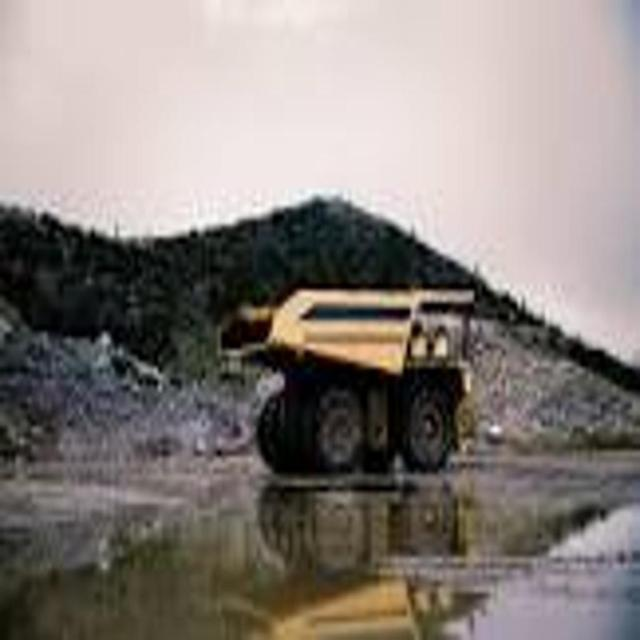dump_truck: (213, 260, 484, 486)
